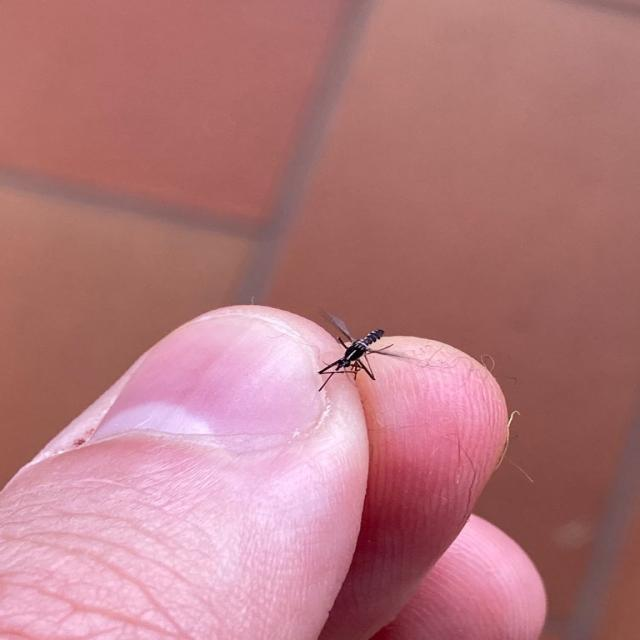albopictus: (308, 300, 422, 394)
